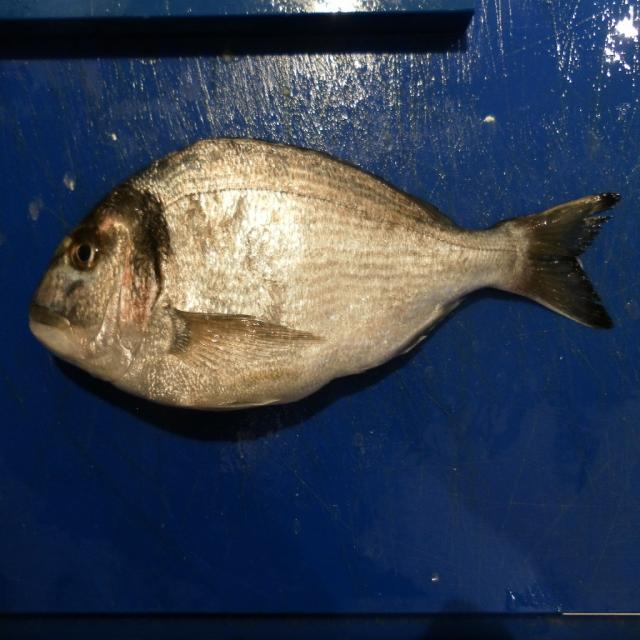Gilt-Head-Bream-c-ipura-: (28, 138, 620, 416)
